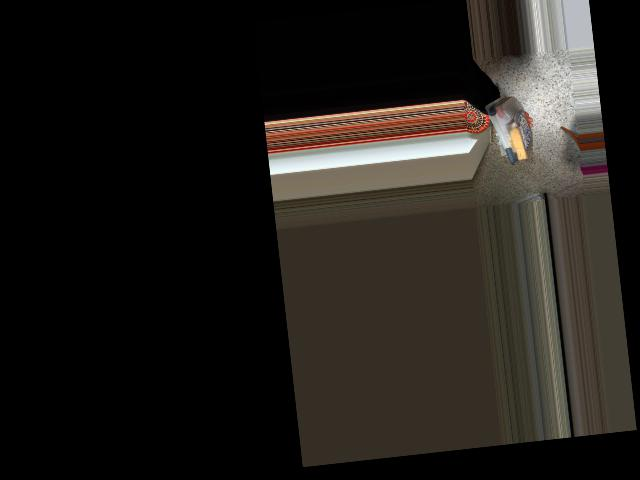cheese: (479, 94, 535, 169)
